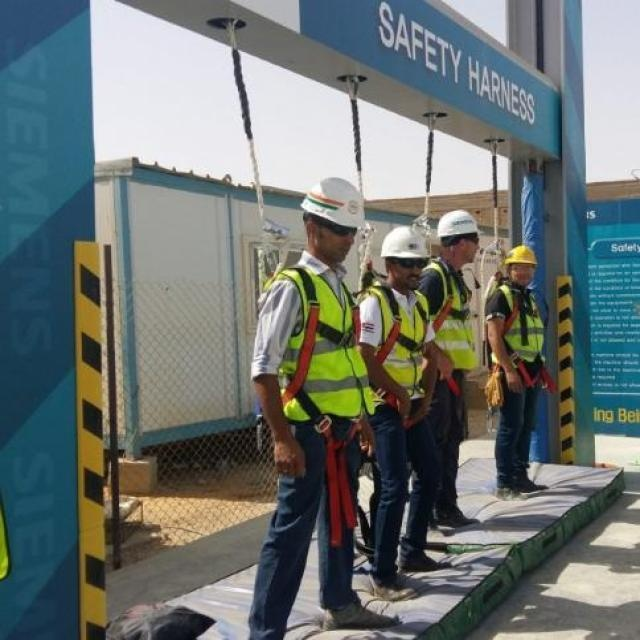Arnes_seguridad: (263, 260, 366, 441), (362, 268, 434, 414), (484, 276, 553, 390), (426, 254, 475, 355)
